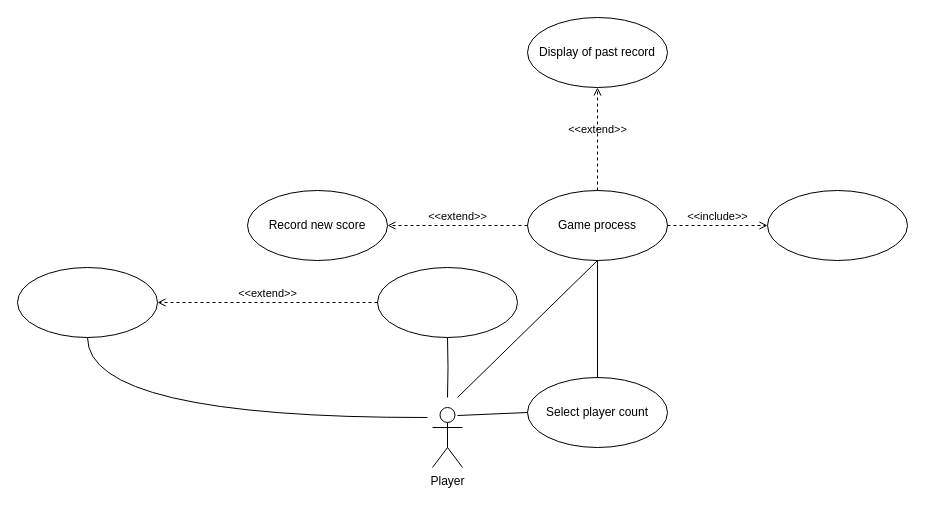
This 925x506 diagram has some shape labels left out. The centre of each missing label's shape, as x and y in pixels:
"Display winner" goes at point 837,225.
"Game menu" goes at point 447,302.
"Settings" goes at point 87,302.
